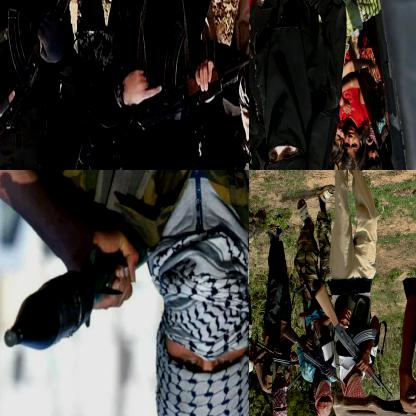rifle: (82, 17, 248, 153), (2, 238, 152, 356), (0, 0, 93, 169), (314, 282, 394, 402), (281, 320, 352, 386), (249, 333, 306, 369), (249, 331, 255, 369)
